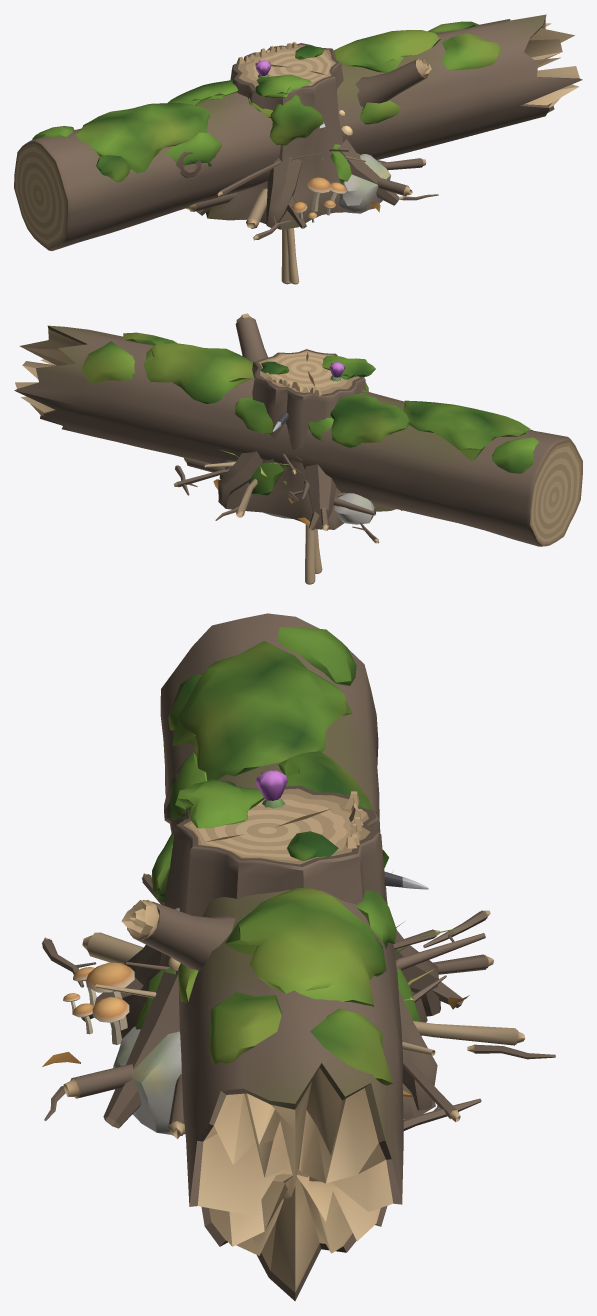
The model's file is gather.glb.
3 views of the same model, one above another, from view 1: azimuth 30°, elevation 25°; view 2: azimuth 150°, elevation 25°; view 3: azimuth 270°, elevation 25° (orthographic). The views are drawn at different scales.
Parts seen in each view (by area): view 1: fallen_log, tree_stump, branch_pile, field_stone, tool_axe, tool_pick; view 2: fallen_log, tree_stump, branch_pile, field_stone, tool_pick; view 3: fallen_log, tree_stump, branch_pile, field_stone, weed_clump.
Part boxes in pixels (x1=…): fallen_log: x1=14, y1=14, x2=582, y2=250; tree_stump: x1=196, y1=41, x2=399, y2=229; branch_pile: x1=186, y1=148, x2=438, y2=240; field_stone: x1=241, y1=154, x2=390, y2=219; tool_axe: x1=286, y1=228, x2=299, y2=284; tool_pick: x1=281, y1=122, x2=325, y2=284; fallen_log: x1=14, y1=313, x2=582, y2=546; tree_stump: x1=218, y1=349, x2=401, y2=530; branch_pile: x1=173, y1=453, x2=379, y2=543; field_stone: x1=224, y1=460, x2=374, y2=524; tool_pick: x1=272, y1=412, x2=315, y2=584; fallen_log: x1=121, y1=613, x2=403, y2=1300; tree_stump: x1=63, y1=779, x2=463, y2=1128; branch_pile: x1=42, y1=873, x2=555, y2=1138; field_stone: x1=113, y1=1026, x2=185, y2=1134; weed_clump: x1=256, y1=770, x2=470, y2=1018.
Size of the model in its own units: 2.4 by 0.9693 by 1.01.
